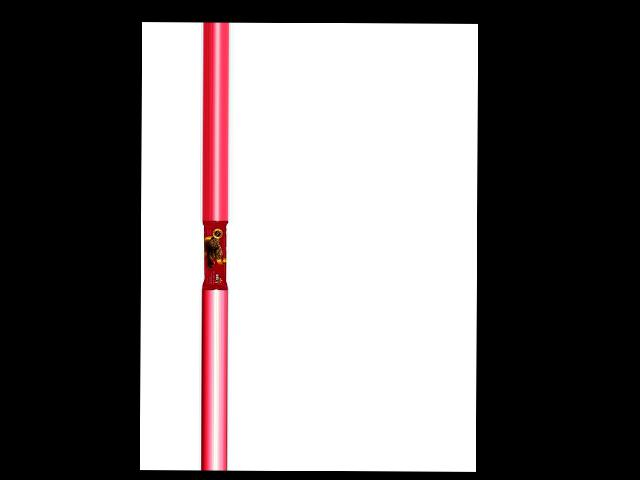chocolate: (199, 222, 227, 290)
